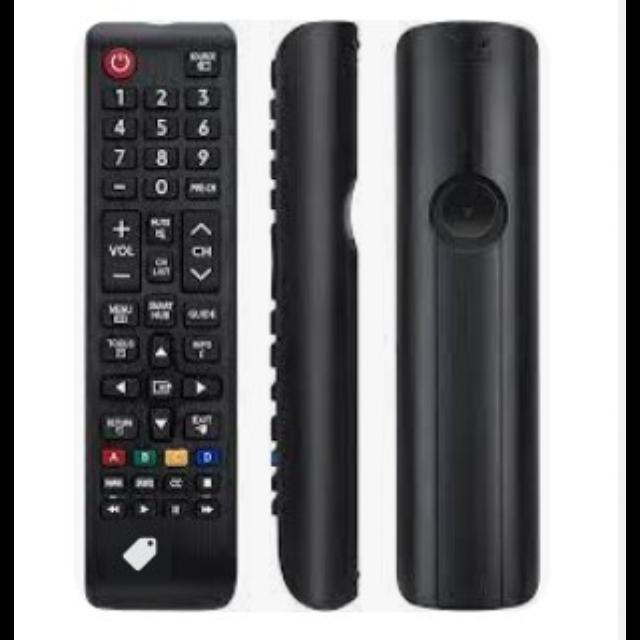TV-Remote-Control: (82, 24, 239, 612), (393, 22, 538, 614), (269, 22, 363, 614)
